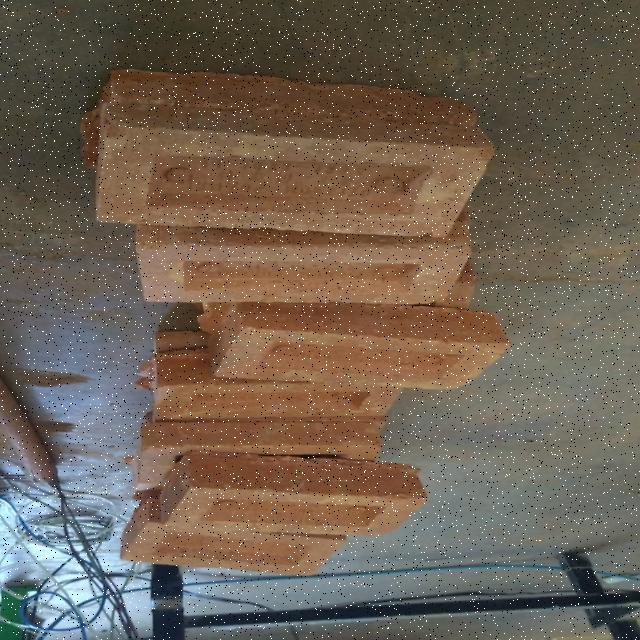bricks: (94, 105, 498, 235), (128, 225, 475, 303), (211, 308, 506, 390), (96, 66, 487, 123), (156, 454, 425, 534), (122, 490, 356, 576), (150, 351, 403, 421), (136, 422, 389, 490)
